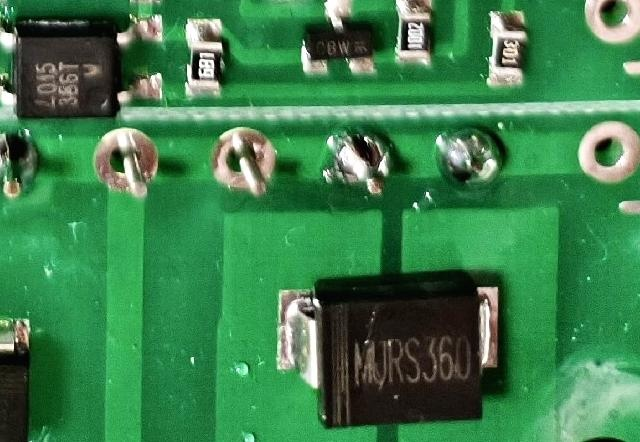chip-resistor: (181, 14, 226, 101), (481, 8, 528, 87), (392, 0, 435, 69)
diode: (272, 272, 505, 427)
ic: (0, 8, 166, 120)
transistor: (294, 0, 378, 80)
